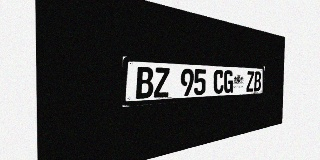5: (194, 69, 206, 95)
9: (181, 68, 194, 96)
B: (136, 66, 153, 99), (254, 71, 261, 91)
C: (213, 70, 224, 94)
G: (224, 70, 233, 93)
Z: (154, 67, 170, 98), (246, 71, 254, 92)
